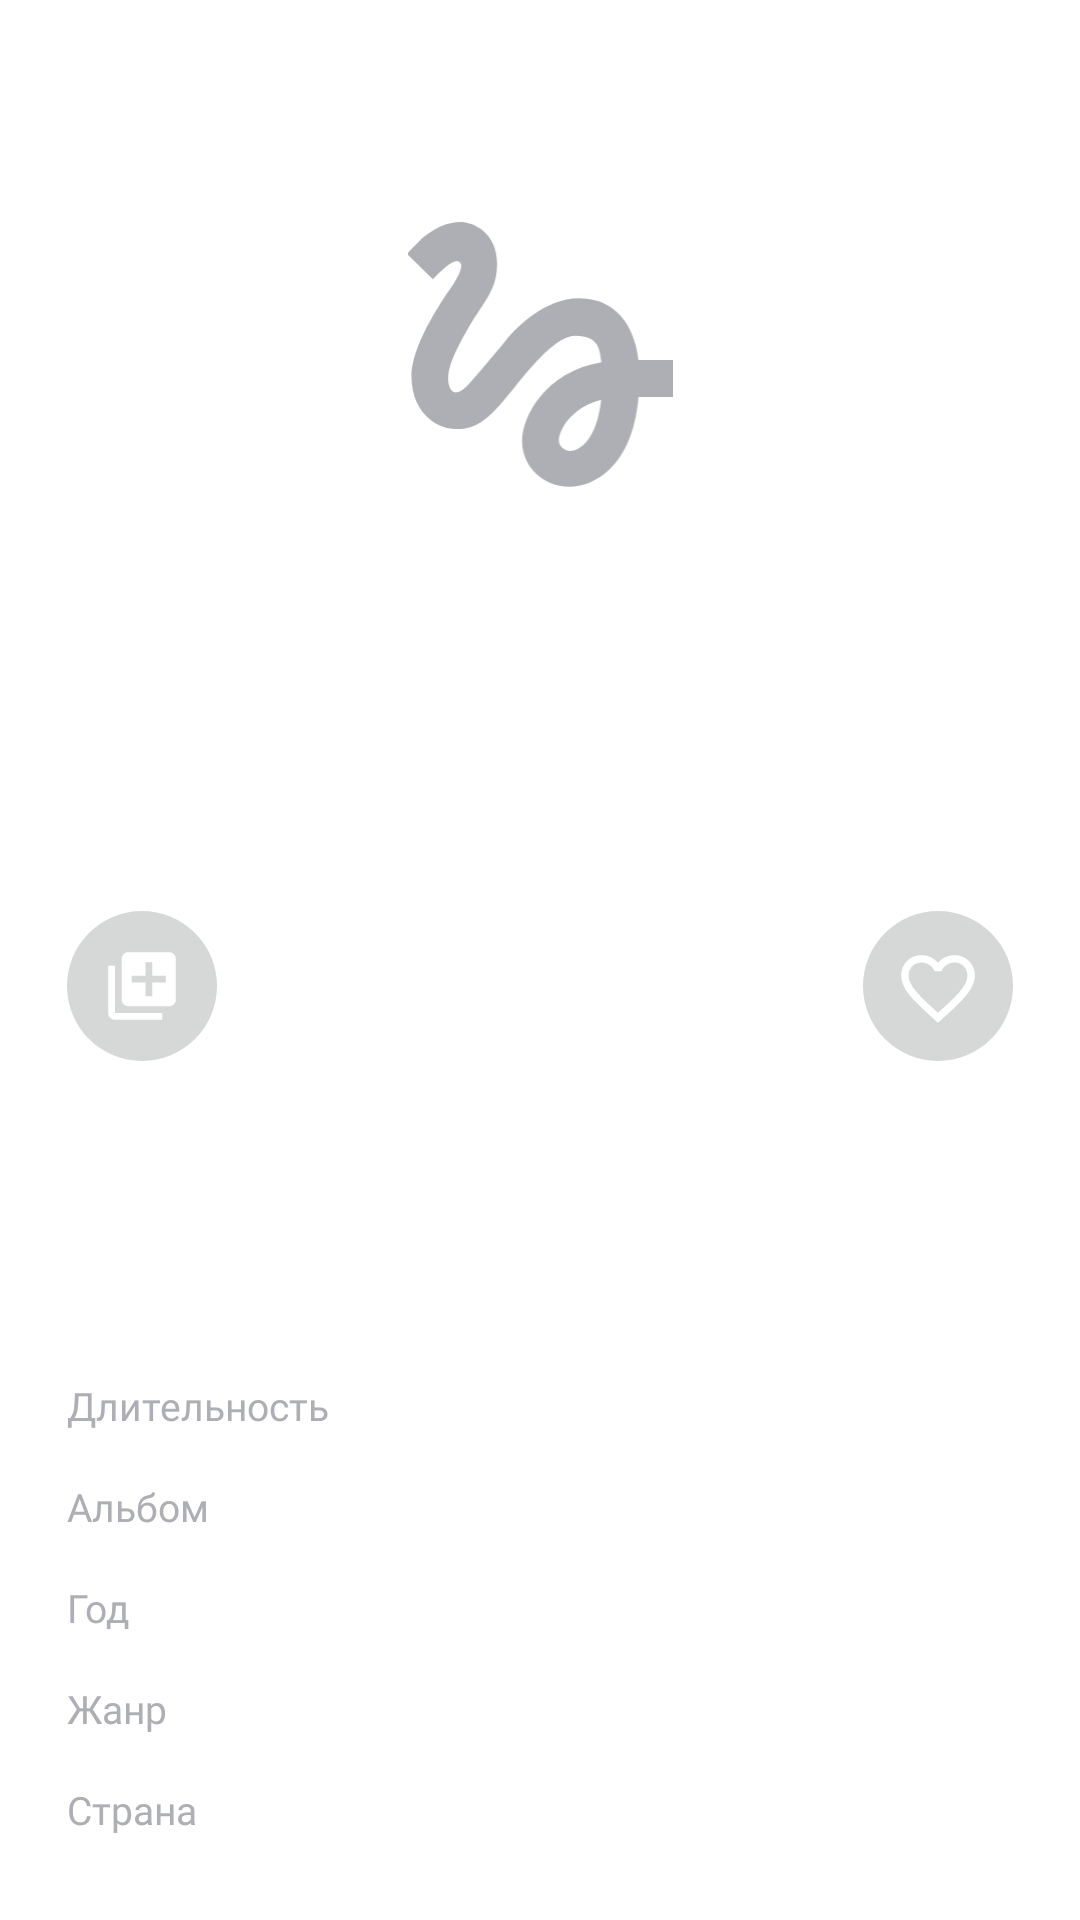

Screen size 1080w x 1920h. Icon name, then its box in pixels as (x1, y1, x2, y2):
audio player like off: (863, 911, 1013, 1061)
